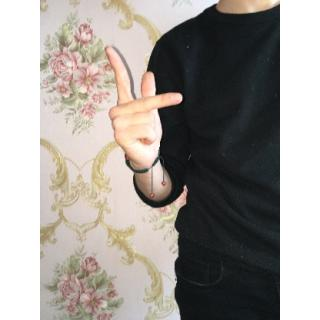DHAA: (103, 45, 184, 168)
